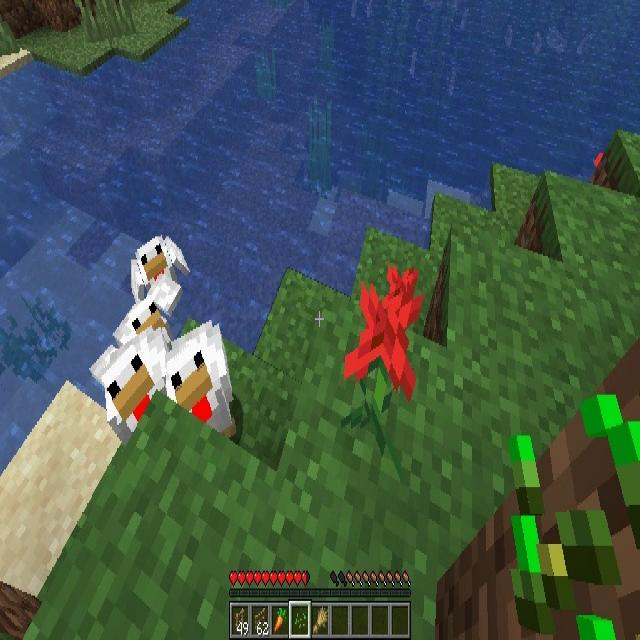duck: (166, 320, 236, 439), (94, 341, 166, 434), (116, 288, 174, 349), (132, 234, 190, 288)
